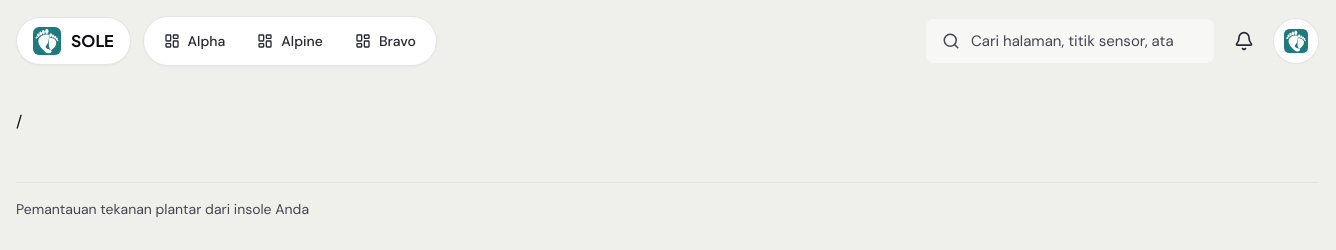
SHELL-04: the search is a real control › navigates on Enter to the highlighted result
Type "alp" into the dropdown at (1070, 41), box [926,19,1214,63]
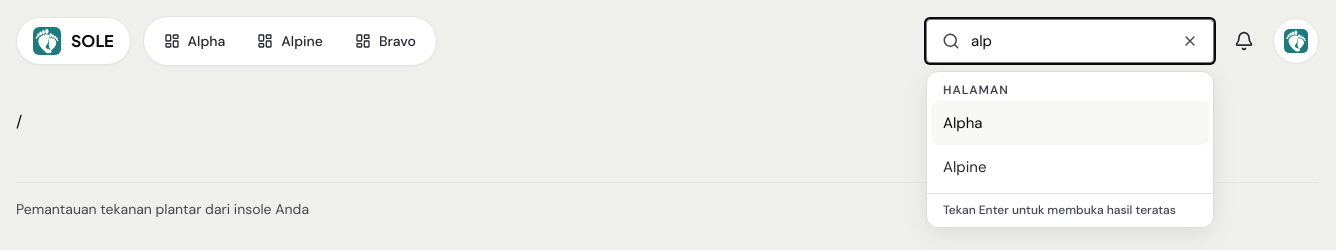
Press Arrowdown
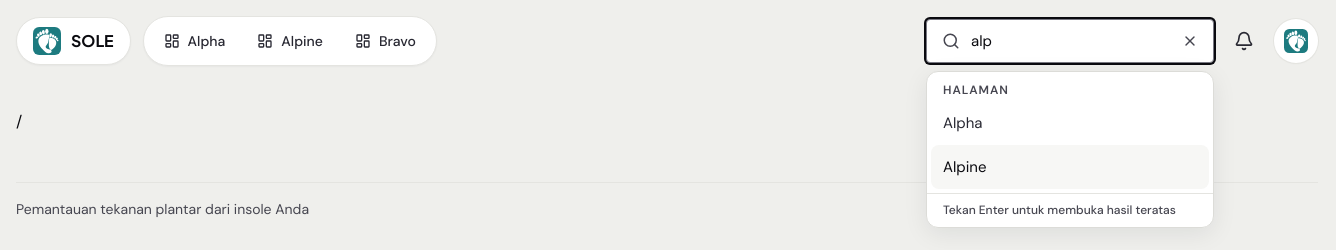
Press Enter
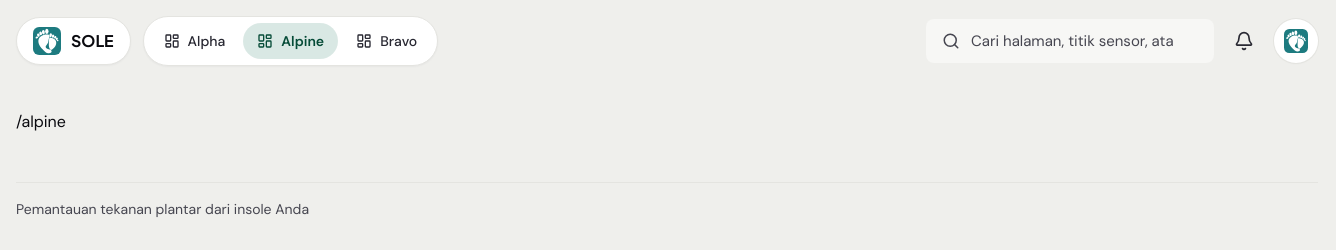
Now the text with test id "route" reads "/alpine", box [16,111,66,132]
Now the dropdown is empty, box [926,19,1214,63]
Now the list is gone
